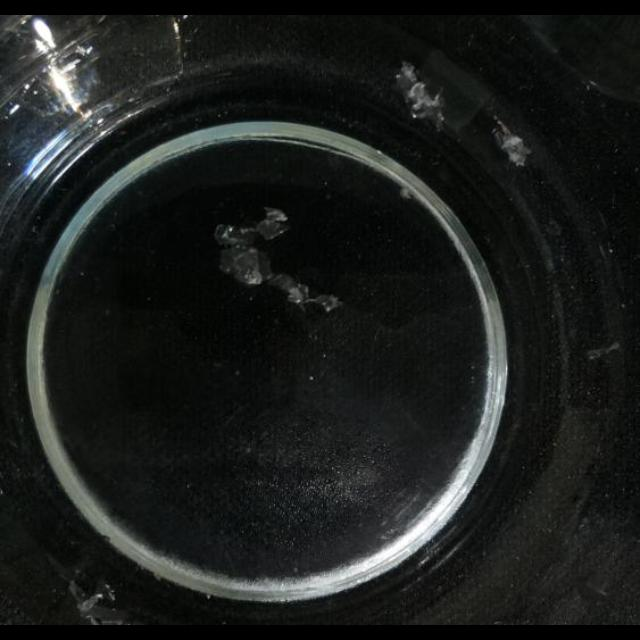Fibre: (220, 210, 340, 320), (394, 62, 446, 130), (67, 578, 129, 624), (492, 123, 530, 165), (586, 340, 622, 360), (398, 186, 414, 200)
